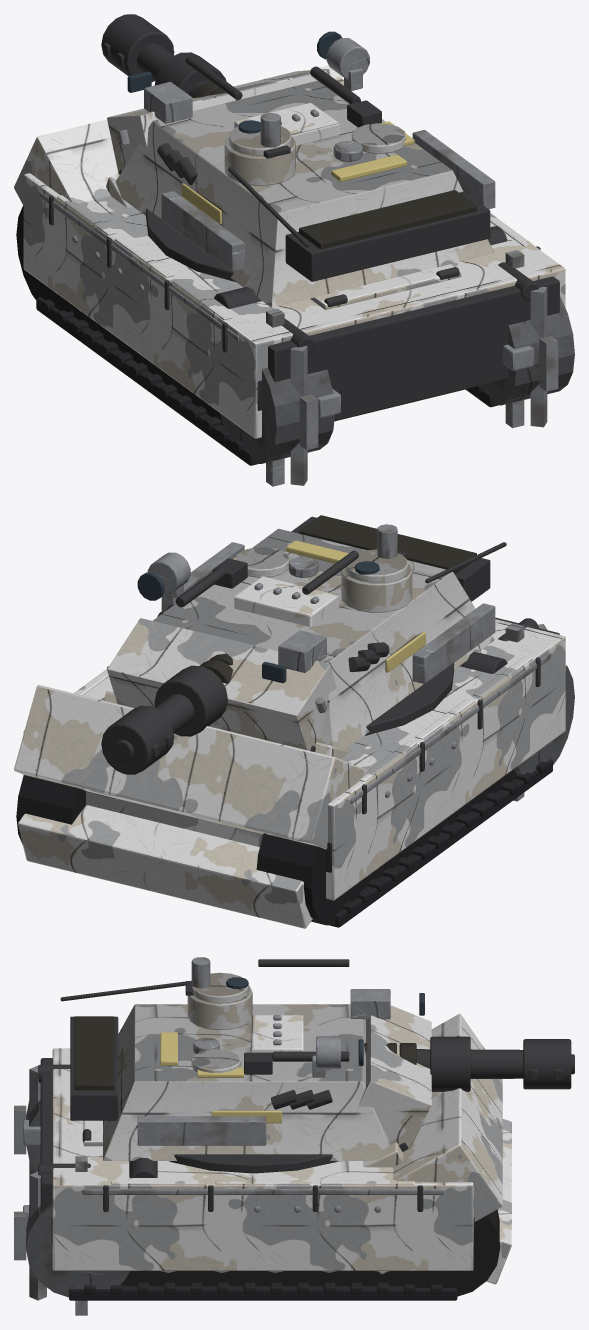
The model's file is tank_medium.glb.
3 views of the same model, one above another, from view 1: azimuth 30°, elevation 25°; view 2: azimuth 150°, elevation 25°; view 3: azimuth 270°, elevation 25° (orthographic). The views are drawn at different scales.
Visible parts, largest first — view 1: HullMesh, TurretMesh, Wheel_L_sprocket, BarrelMesh, Wheel_R_sprocket, Wheel_L_idler; view 2: HullMesh, TurretMesh, BarrelMesh, Wheel_L_idler, Wheel_R_idler, Wheel_L_sprocket; view 3: HullMesh, TurretMesh, BarrelMesh, Wheel_R_sprocket, Wheel_R_idler, Wheel_L_sprocket, Wheel_R3, Wheel_R1, Wheel_R2, Wheel_R4, Wheel_R0.
Part boxes in pixels (box(x1,y1,x2,y2)): HullMesh: box(14, 65, 565, 465); TurretMesh: box(107, 31, 495, 307); Wheel_L_sprocket: box(220, 308, 334, 486); BarrelMesh: box(101, 14, 339, 145); Wheel_R_sprocket: box(483, 250, 574, 428); Wheel_L_idler: box(16, 205, 75, 312); HullMesh: box(14, 617, 565, 928); TurretMesh: box(107, 515, 506, 750); BarrelMesh: box(101, 576, 339, 774); Wheel_L_idler: box(256, 833, 367, 925); Wheel_R_idler: box(16, 775, 85, 844); Wheel_L_sprocket: box(505, 623, 574, 801); HullMesh: box(23, 1013, 511, 1300); TurretMesh: box(60, 957, 431, 1173); BarrelMesh: box(251, 1015, 574, 1091); Wheel_R_sprocket: box(14, 1156, 130, 1315); Wheel_R_idler: box(396, 1209, 500, 1296); Wheel_L_sprocket: box(14, 1065, 40, 1174); Wheel_R3: box(186, 1271, 257, 1285); Wheel_R1: box(293, 1271, 364, 1285); Wheel_R2: box(239, 1271, 311, 1285); Wheel_R4: box(132, 1271, 204, 1285); Wheel_R0: box(346, 1271, 404, 1285).
Size of the model in its own units: 3.46 by 3.17 by 5.86.
Materials: 11 (2 with a texture image).
